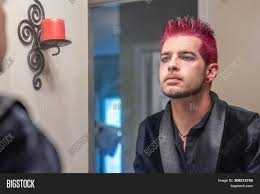white_male: (157, 42, 203, 95)
